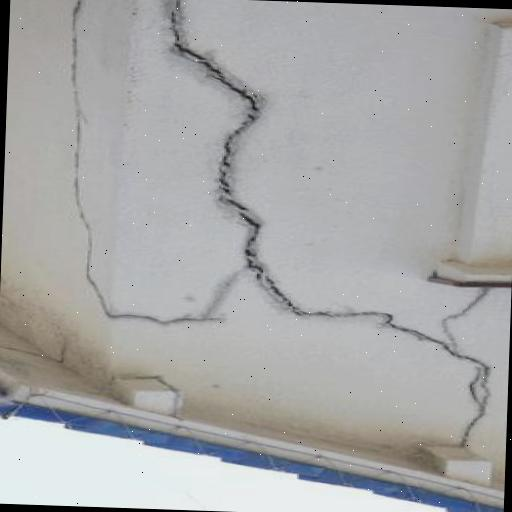spalling: (158, 1, 498, 445), (59, 0, 235, 330)
